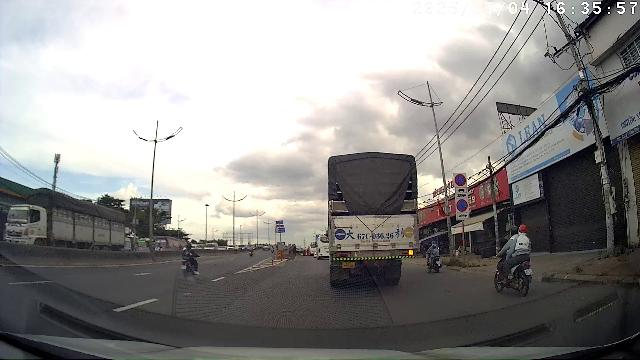130-cam-dung-va-do-xe: (454, 174, 466, 186)
131a-cam-do-xe: (456, 199, 468, 212)
